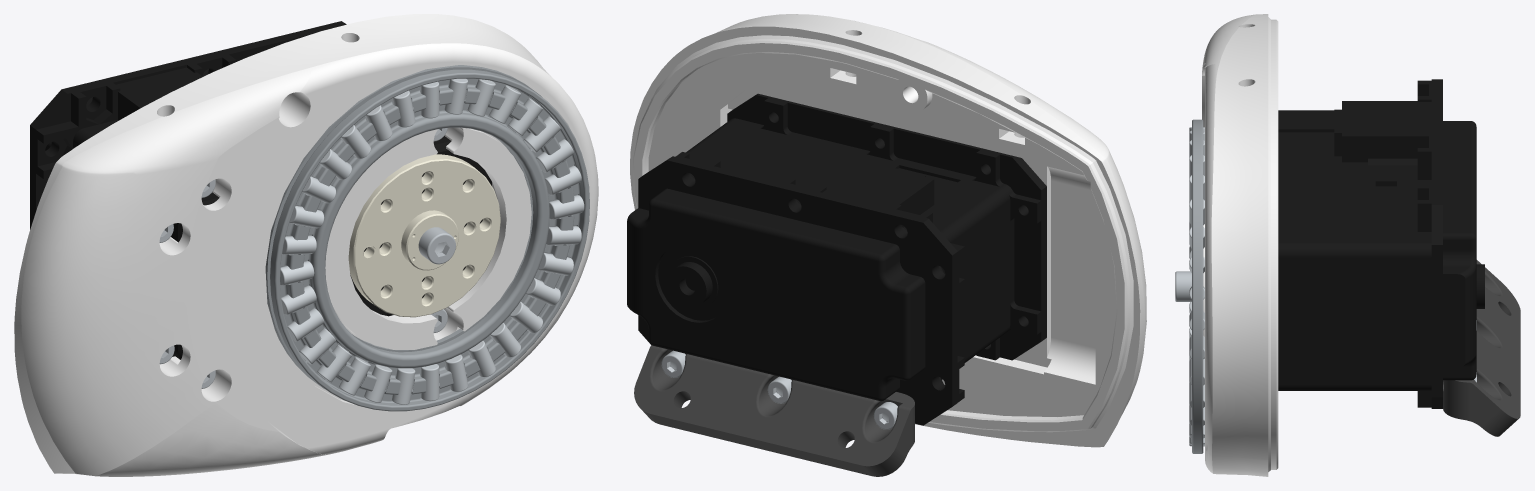
File: shoulder-pitch-right.dae
3 renders of one model, left to right at view 1: azimuth 30°, elevation 25°; view 2: azimuth 150°, elevation 25°; view 3: azimuth 270°, elevation 25°, orthographic. The views are drawn at different scales.
Visible parts, largest first — view 1: shoulder_pitch_right, bearing_support, bearing_needles, MX106_horn, MX106_body, bearing_plate, MX106_horn_screw, screw; view 2: MX106_body, shoulder_pitch_right, DXL106_fixation, screw; view 3: MX106_body, shoulder_pitch_right, DXL106_fixation, bearing_support, bearing_needles, MX106_horn_screw.
Boxes of the visible parts, box(x1,y1,x2,y2) form: shoulder_pitch_right: box(14, 14, 598, 476); bearing_support: box(270, 69, 589, 411); bearing_needles: box(280, 78, 584, 404); MX106_horn: box(348, 154, 500, 317); MX106_body: box(30, 21, 491, 359); bearing_plate: box(265, 65, 578, 400); MX106_horn_screw: box(418, 227, 455, 264); screw: box(159, 128, 447, 388); MX106_body: box(627, 93, 1046, 425); shoulder_pitch_right: box(630, 14, 1146, 447); DXL106_fixation: box(634, 345, 914, 476); screw: box(661, 350, 897, 429); MX106_body: box(1278, 79, 1484, 408); shoulder_pitch_right: box(1202, 14, 1278, 476); DXL106_fixation: box(1443, 260, 1520, 436); bearing_support: box(1192, 119, 1203, 453); bearing_needles: box(1189, 127, 1204, 446); MX106_horn_screw: box(1175, 271, 1191, 301).
Bounding box in the file's own units: 0.1058 × 0.0617 × 0.0731.
